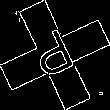P_SE: (28, 24, 82, 86)
